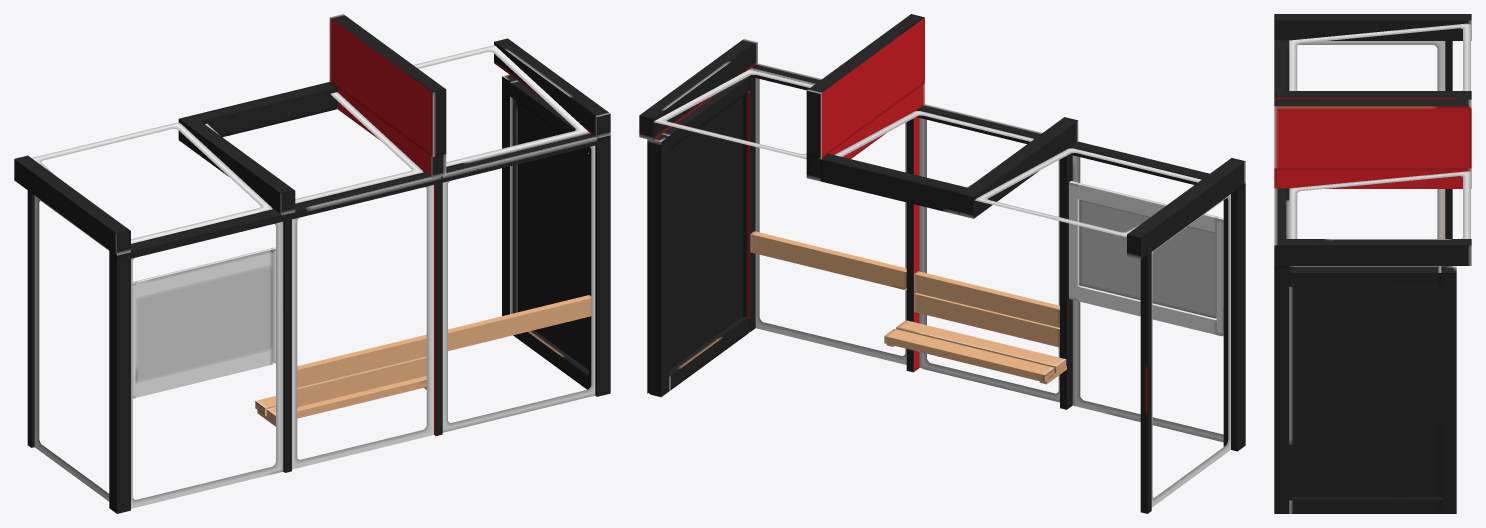
File: nl_bus_shelter_large_rnet.obj
3 views of the same model, side by side, from view 1: azimuth 30°, elevation 25°; view 2: azimuth 150°, elevation 25°; view 3: azimuth 270°, elevation 25° (orthographic). The views are drawn at different scales.
Visible parts, largest first — view 1: 1ab, a, 4, r, b, 1, 3, g3, 2, g2, f, g4 (+13 smaller); view 2: 1ab, r, a, 4, 1, 3, b, 1f, l, 2, f, tt (+14 smaller); view 3: 1ab, r, 1, 4, 1f, 2, 1t, 1b, gt3, gt1, 3, b (+2 smaller).
Part boxes in pixels (<box>): 1ab: <box>516,101,588,369</box>; a: <box>135,264,272,383</box>; 4: <box>14,155,130,513</box>; r: <box>132,14,446,398</box>; b: <box>131,132,596,397</box>; 1: <box>494,38,610,396</box>; 3: <box>178,115,295,472</box>; g3: <box>292,185,433,469</box>; 2: <box>329,82,446,435</box>; g2: <box>442,145,595,432</box>; f: <box>193,82,337,137</box>; g4: <box>131,221,283,508</box>; 1ab: <box>669,97,743,369</box>; r: <box>806,14,1223,336</box>; a: <box>1079,199,1216,318</box>; 4: <box>1127,158,1245,451</box>; 1: <box>639,39,757,332</box>; 3: <box>960,117,1078,409</box>; b: <box>750,63,1216,334</box>; 1f: <box>647,134,669,397</box>; l: <box>750,181,1079,300</box>; 2: <box>806,83,924,372</box>; f: <box>820,153,967,215</box>; tt: <box>914,271,1059,327</box>; 1ab: <box>1289,286,1441,497</box>; r: <box>1274,99,1471,168</box>; 1: <box>1274,239,1471,513</box>; 4: <box>1274,14,1471,40</box>; 1f: <box>1441,266,1456,513</box>; 2: <box>1274,168,1471,188</box>; 1t: <box>1289,266,1441,286</box>; 1b: <box>1289,497,1441,513</box>; gt3: <box>1289,23,1470,90</box>; gt1: <box>1289,171,1470,238</box>; 3: <box>1274,91,1471,99</box>; b: <box>1274,40,1289,238</box>.
Bounding box in the file's own units: 4.5 × 3 × 1.62.
Materials: 1 (1 with a texture image).
